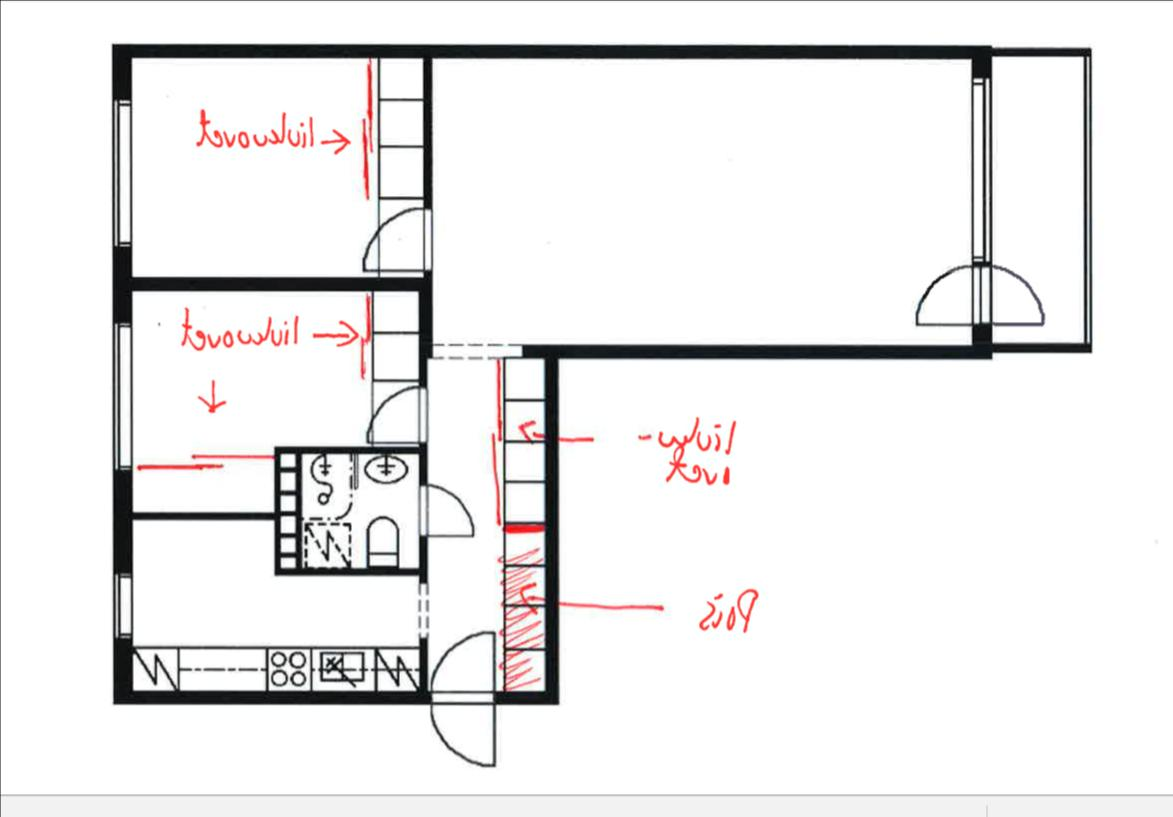bathroom: (296, 451, 420, 566)
door: (911, 258, 994, 334), (357, 200, 439, 275), (426, 626, 499, 703), (428, 693, 498, 773), (969, 258, 1050, 325), (358, 380, 431, 453), (414, 476, 483, 540)
perimeter: (110, 44, 994, 708)
window: (962, 67, 996, 264), (104, 317, 138, 474), (108, 88, 136, 254), (107, 562, 134, 645)
